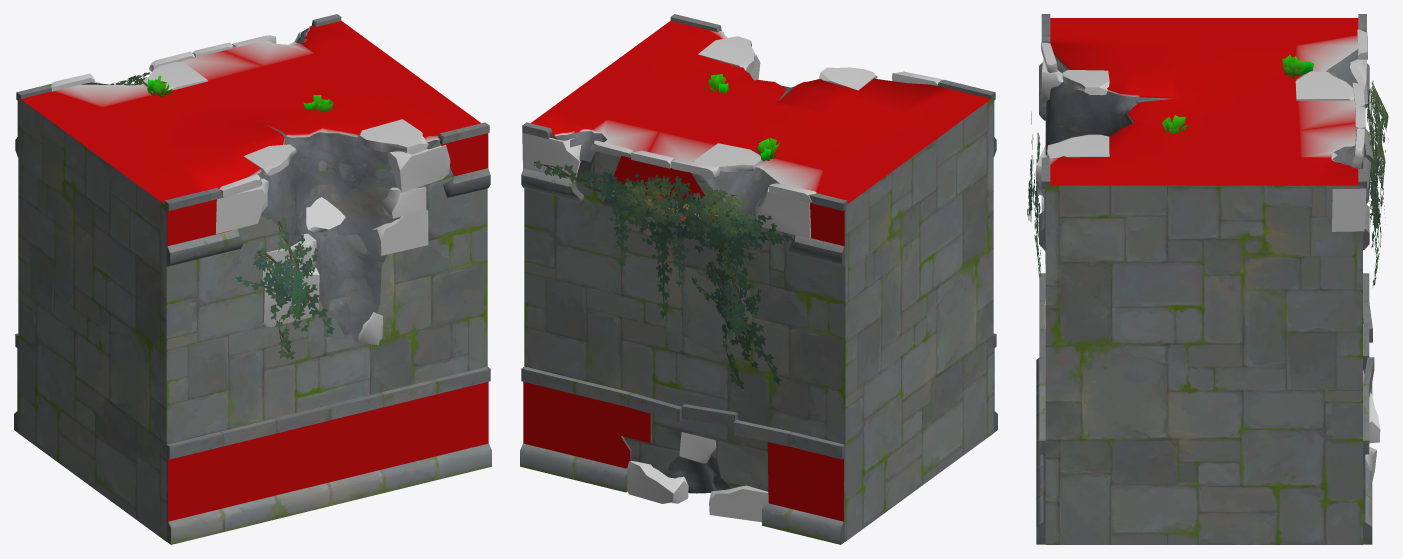
File: Area_MdBuild_SdWall03_08_Group.fbx
3 views of the same model, side by side, from view 1: azimuth 30°, elevation 25°; view 2: azimuth 150°, elevation 25°; view 3: azimuth 270°, elevation 25° (orthographic). The views are drawn at different scales.
Parts seen in each view (by area): view 1: Area_MdBuild_SdWall03_08_Lod0, Stages_LYLvy09_Vo (1); view 2: Area_MdBuild_SdWall03_08_Lod0, Stages_LYLvy03_Vo (1), Stages_LYLvy09_Vo (2); view 3: Area_MdBuild_SdWall03_08_Lod0, Stages_LYLvy03_Vo (1), Stages_LYLvy09_Vo (1), Stages_LYLvy09_Vo (2), Stages_SGrass22_Vo.
Part boxes in pixels (x1,y1,x2,y2): Area_MdBuild_SdWall03_08_Lod0: [14, 14, 491, 544]; Stages_LYLvy09_Vo (1): [235, 218, 334, 359]; Area_MdBuild_SdWall03_08_Lod0: [520, 14, 997, 544]; Stages_LYLvy03_Vo (1): [533, 160, 798, 318]; Stages_LYLvy09_Vo (2): [691, 241, 780, 388]; Area_MdBuild_SdWall03_08_Lod0: [1035, 14, 1380, 544]; Stages_LYLvy03_Vo (1): [1367, 80, 1388, 268]; Stages_LYLvy09_Vo (1): [1027, 112, 1040, 277]; Stages_LYLvy09_Vo (2): [1369, 139, 1385, 287]; Stages_SGrass22_Vo: [1282, 54, 1313, 78].
Size of the model in its own units: 10.04 by 10.59 by 9.14.
